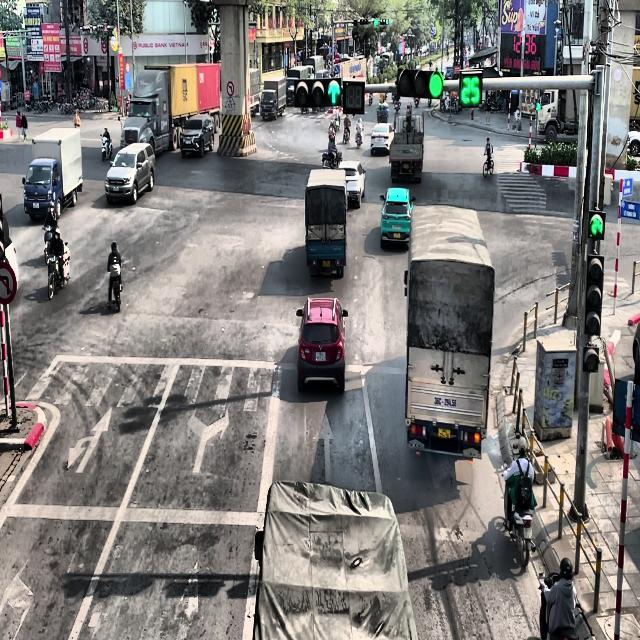lisence_plate: (433, 396, 458, 408), (314, 350, 326, 363), (320, 258, 331, 270), (439, 428, 452, 438), (400, 147, 412, 156), (392, 234, 403, 240), (402, 162, 410, 169)
